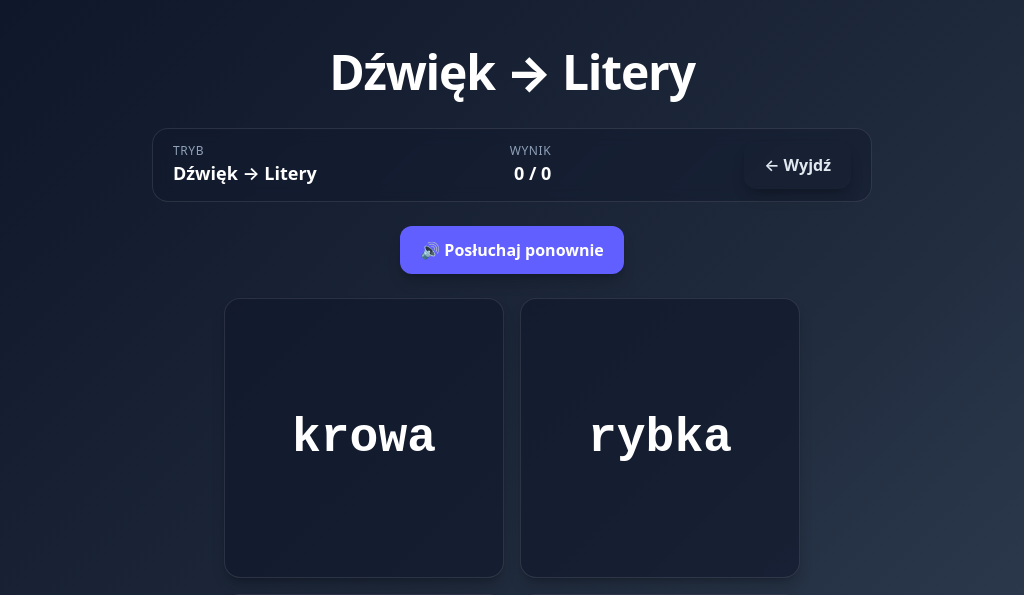
Test case: SoundToLettersScreen › registers a wrong choice as an attempt without scoring
Click the button "krowa": [364, 438] box [224, 298, 504, 578]
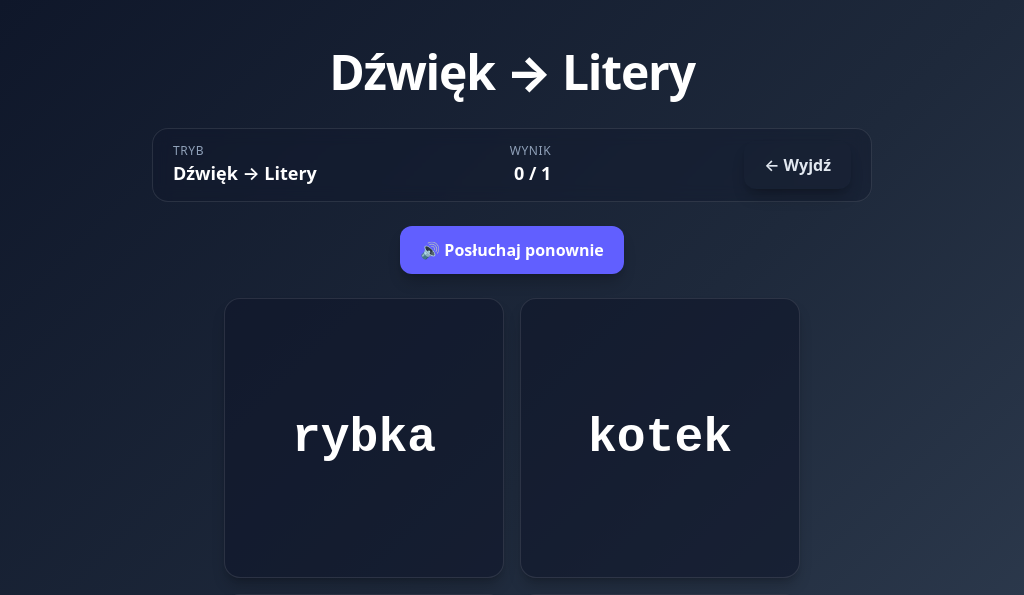
Expected: the text "0 / 1" is shown, [510, 159, 551, 187]
